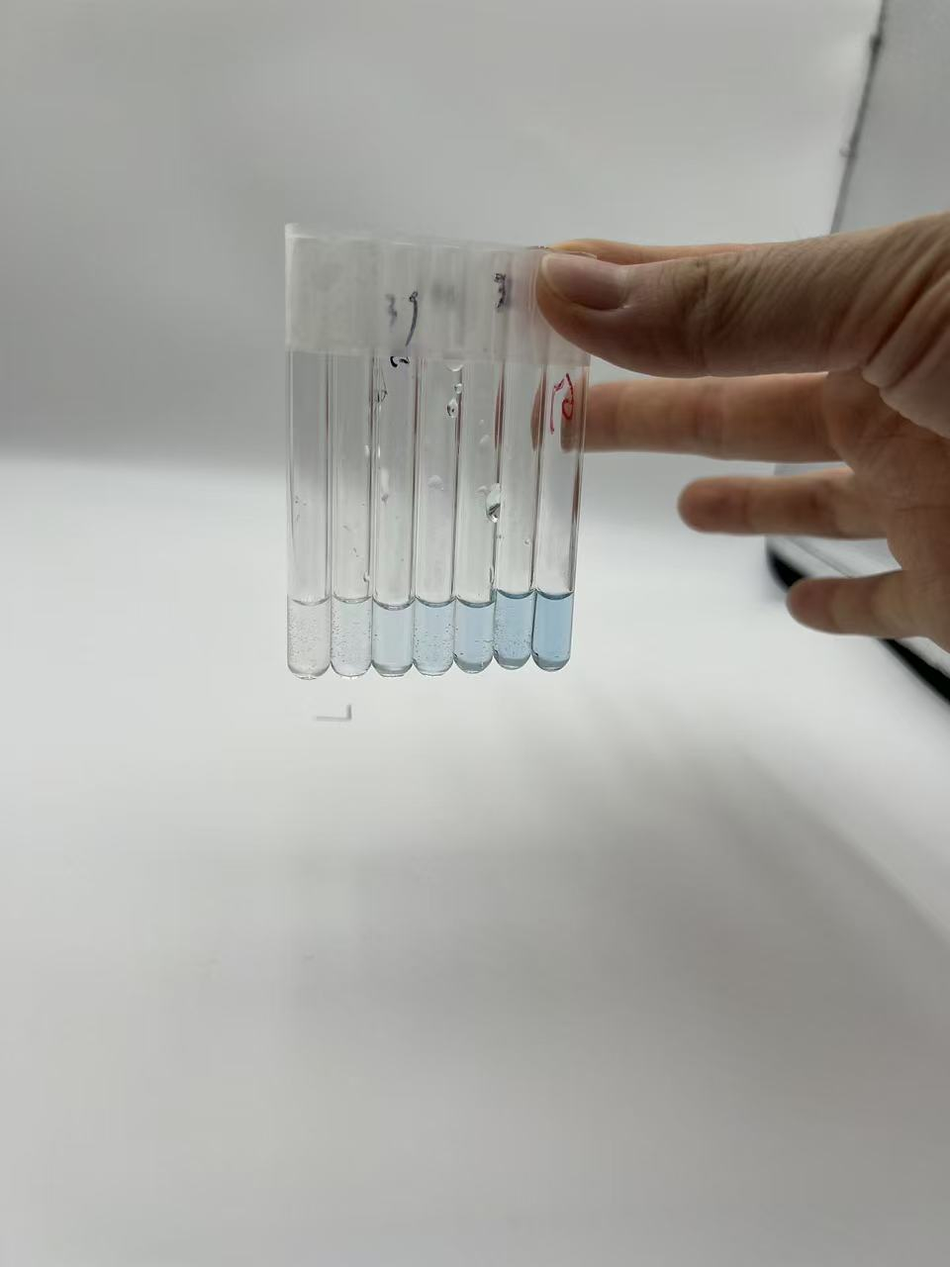drop: (531, 585, 575, 673), (287, 598, 331, 682), (411, 597, 456, 677), (452, 591, 494, 674), (492, 590, 535, 667), (333, 594, 371, 680), (374, 599, 414, 676)
